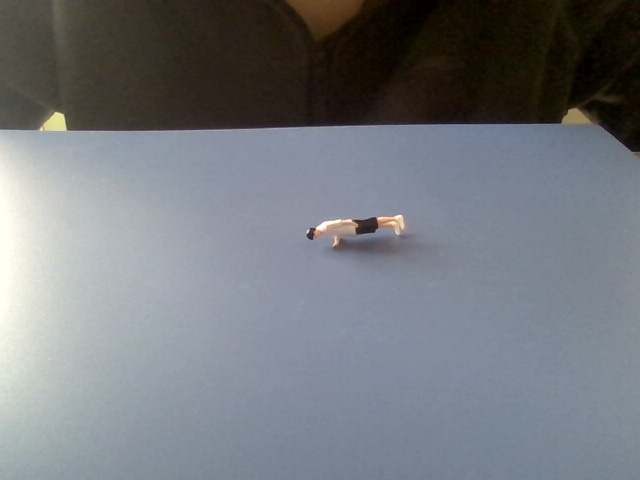fall: (299, 209, 407, 258)
